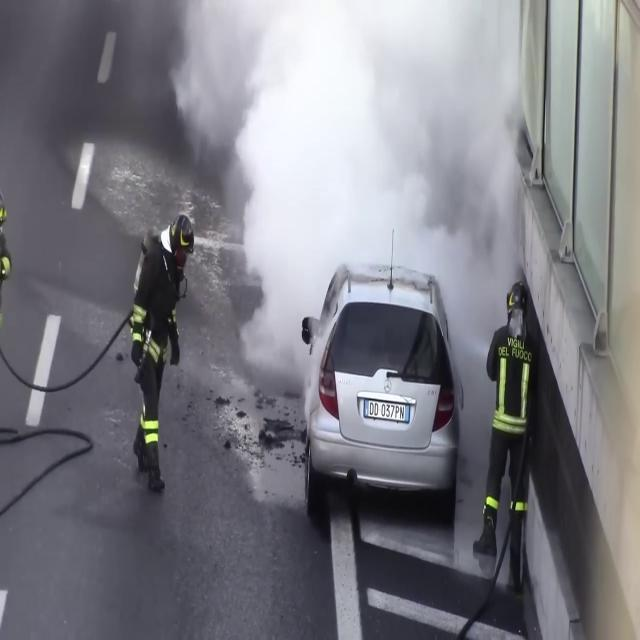Smoke: (178, 0, 530, 358), (577, 2, 640, 637)
